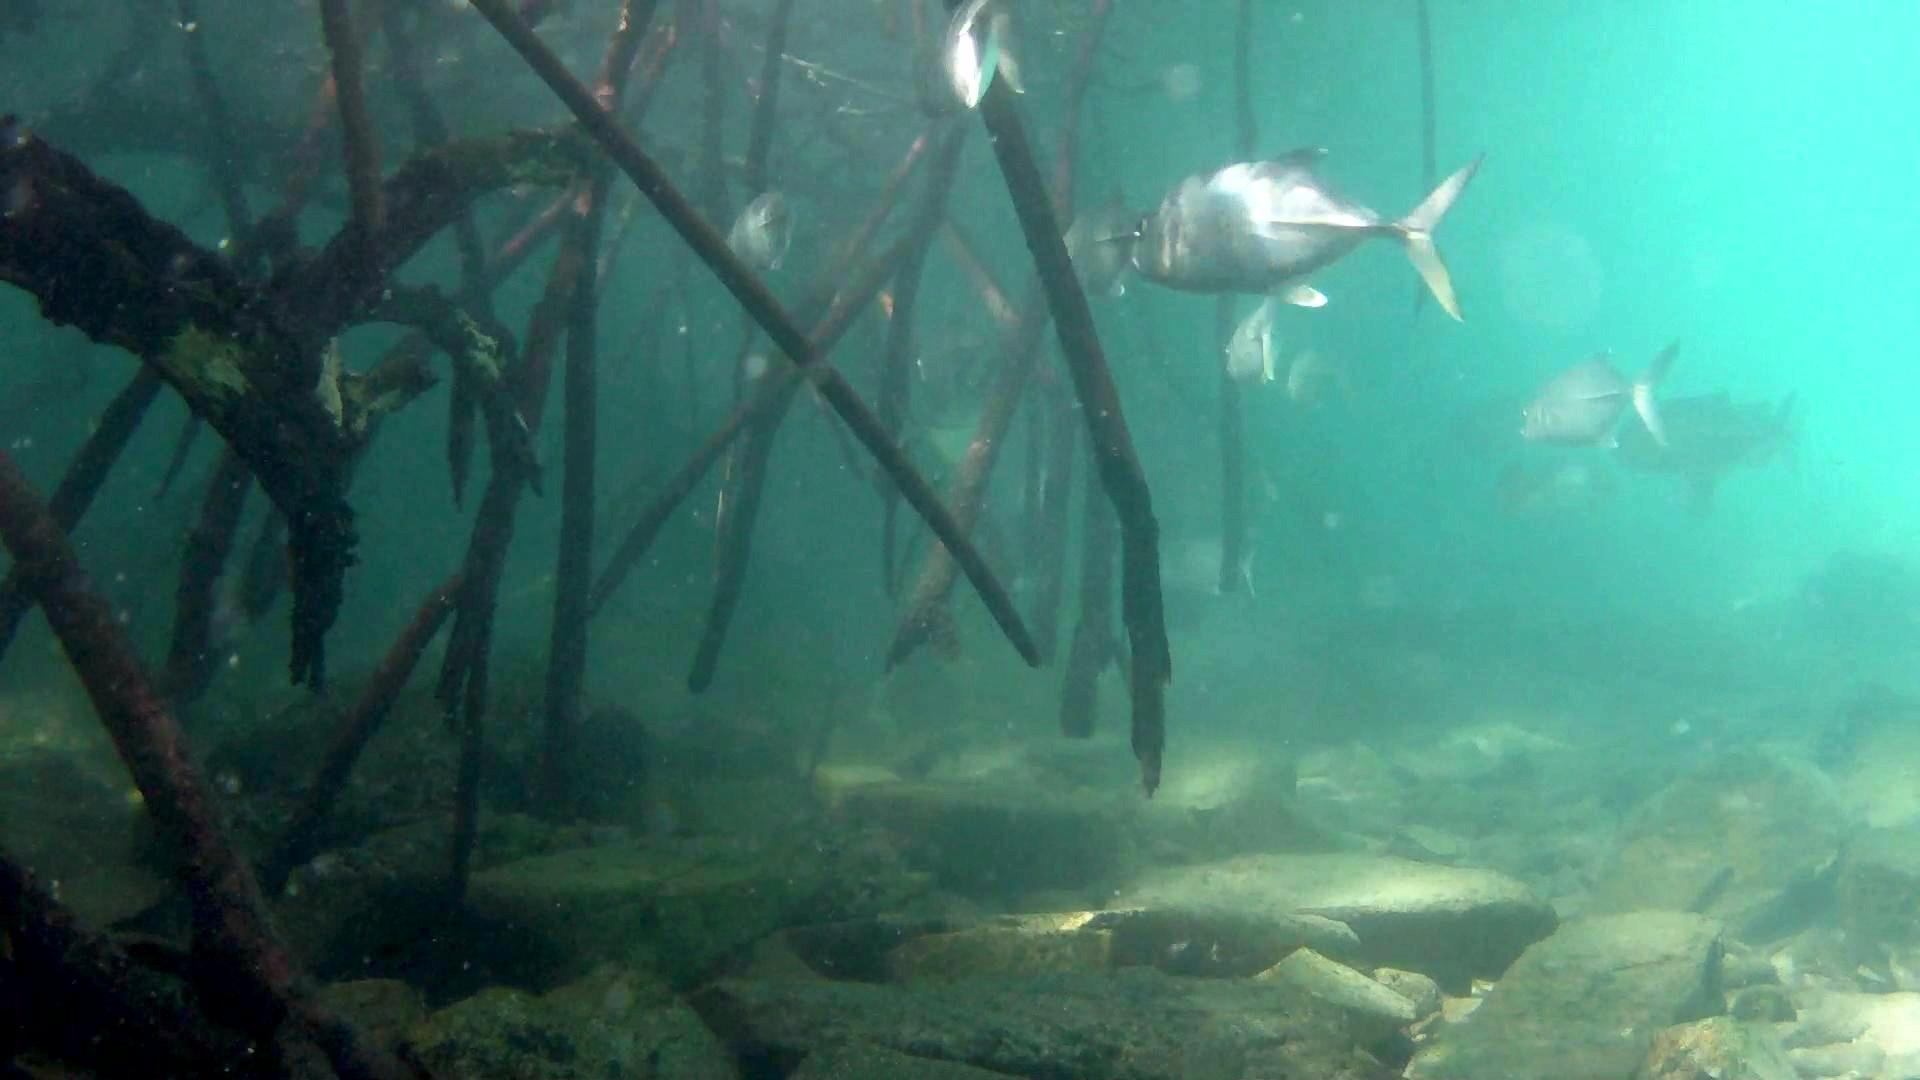caranx: (1106, 133, 1500, 337)
